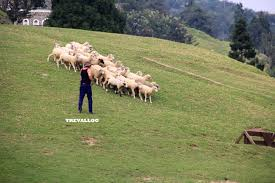sheep: (50, 42, 74, 63), (55, 51, 77, 72), (136, 69, 157, 90), (104, 75, 124, 93), (91, 63, 106, 87), (136, 86, 155, 104), (77, 53, 96, 71), (71, 40, 92, 56), (122, 79, 140, 97), (123, 65, 139, 84), (109, 58, 123, 78), (93, 53, 116, 65)
